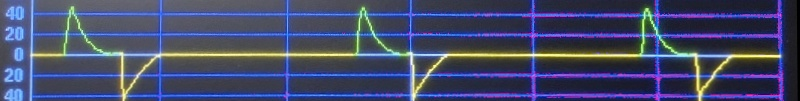normal_flow: (33, 0, 764, 101)
